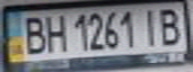1: (69, 10, 90, 52), (118, 7, 139, 48)
2: (84, 9, 106, 52)
6: (103, 8, 124, 50)
B: (154, 4, 187, 46), (18, 13, 48, 55)
H: (42, 11, 69, 53)
I: (136, 6, 163, 47)
